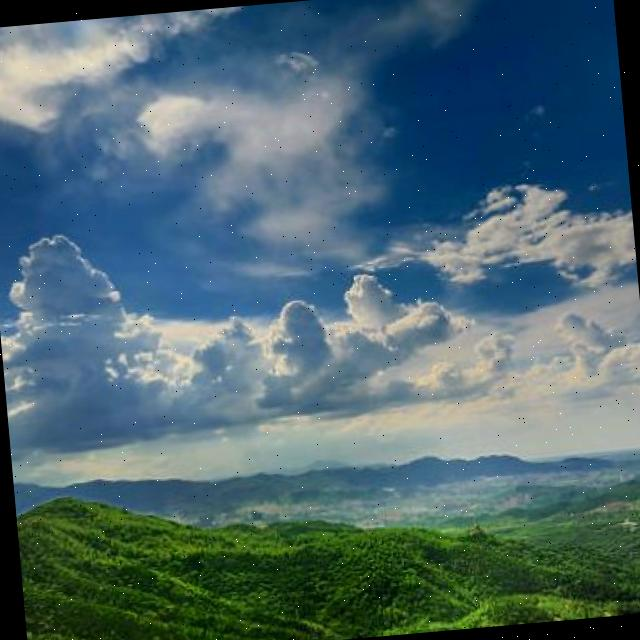St: (1, 151, 640, 477)
